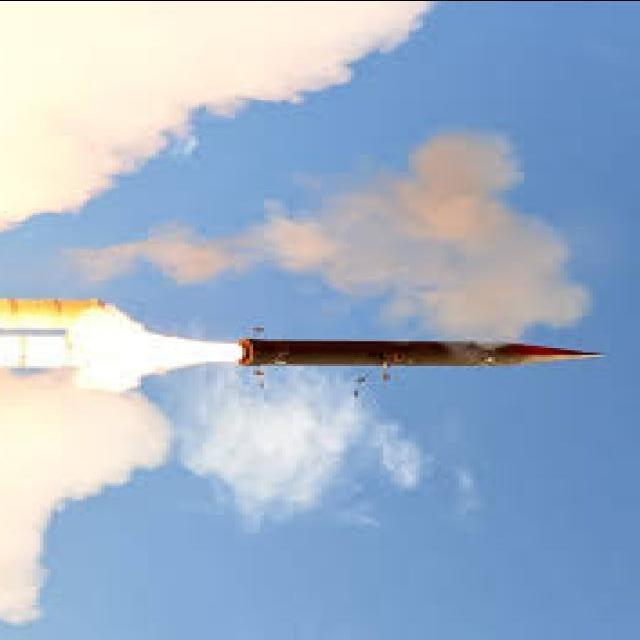missile: (240, 330, 608, 376)
